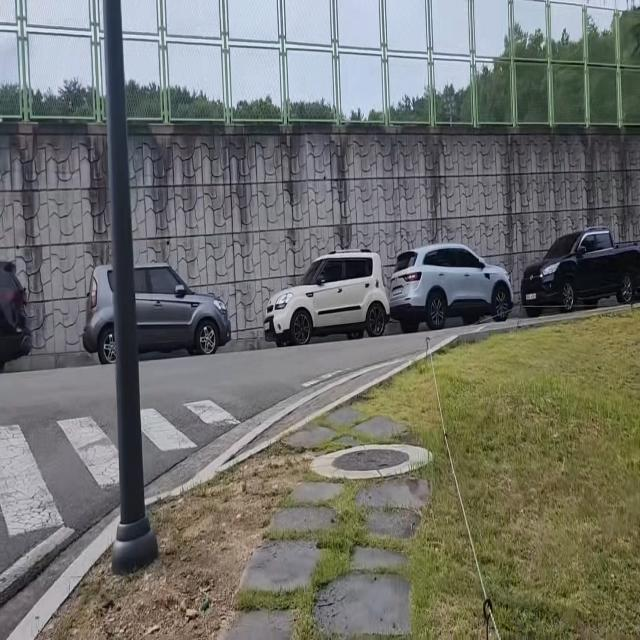obstacle: (101, 0, 159, 567), (82, 255, 237, 367), (252, 243, 395, 350), (386, 239, 518, 335), (482, 590, 498, 639)
road: (0, 329, 462, 637)
